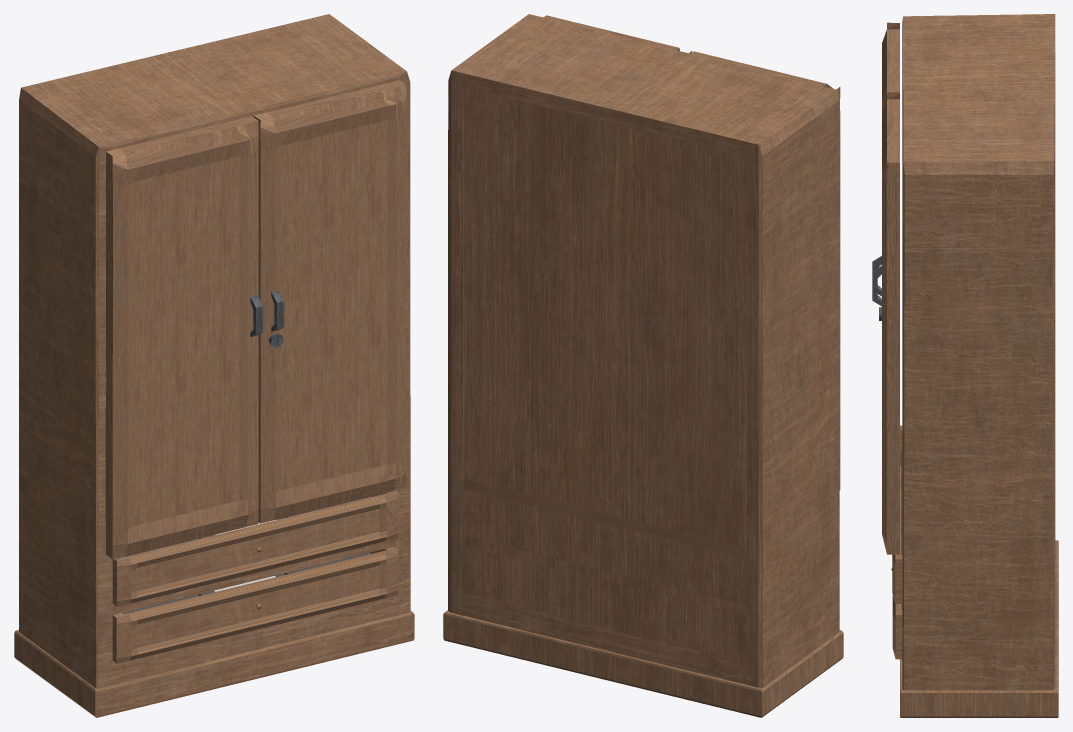
Rendered from sf_c6498b9aec67.glb.
3 renders of one model, left to right at view 1: azimuth 30°, elevation 25°; view 2: azimuth 150°, elevation 25°; view 3: azimuth 270°, elevation 25°, orthographic. The views are drawn at different scales.
Visible parts, largest first — view 1: Object_6, Object_7, Object_10; view 2: Object_6; view 3: Object_6, Object_7.
Part boxes in pixels (<box>): Object_6: <box>14,14,414,717</box>; Object_7: <box>250,290,284,347</box>; Object_10: <box>122,496,370,614</box>; Object_6: <box>443,14,843,717</box>; Object_6: <box>882,14,1058,717</box>; Object_7: <box>872,256,881,320</box>.
Bounding box in the file's own units: 6.53 × 11.16 × 3.39.
Materials: 4 (3 with a texture image).
